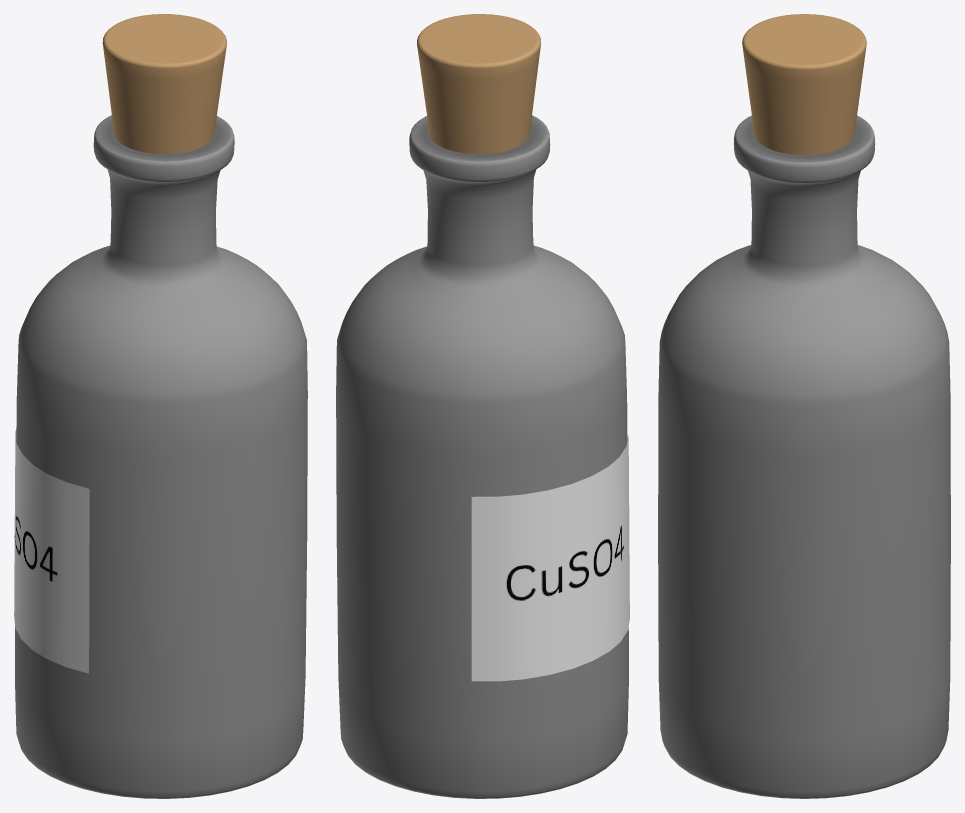
File: CuSO4.fbx
3 views of the same model, side by side, from view 1: azimuth 30°, elevation 25°; view 2: azimuth 150°, elevation 25°; view 3: azimuth 270°, elevation 25° (orthographic).
Visible parts, largest first — view 1: Bttle001_Bttle_0.009; view 2: Bttle001_Bttle_0.009; view 3: Bttle001_Bttle_0.009.
Part boxes in pixels (x1,y1,x2,y2): Bttle001_Bttle_0.009: (14, 14, 307, 798); Bttle001_Bttle_0.009: (336, 14, 629, 798); Bttle001_Bttle_0.009: (658, 14, 950, 798).
Bounding box in the file's own units: 11.44 × 30.04 × 11.35.
5 materials, 2 textured.
